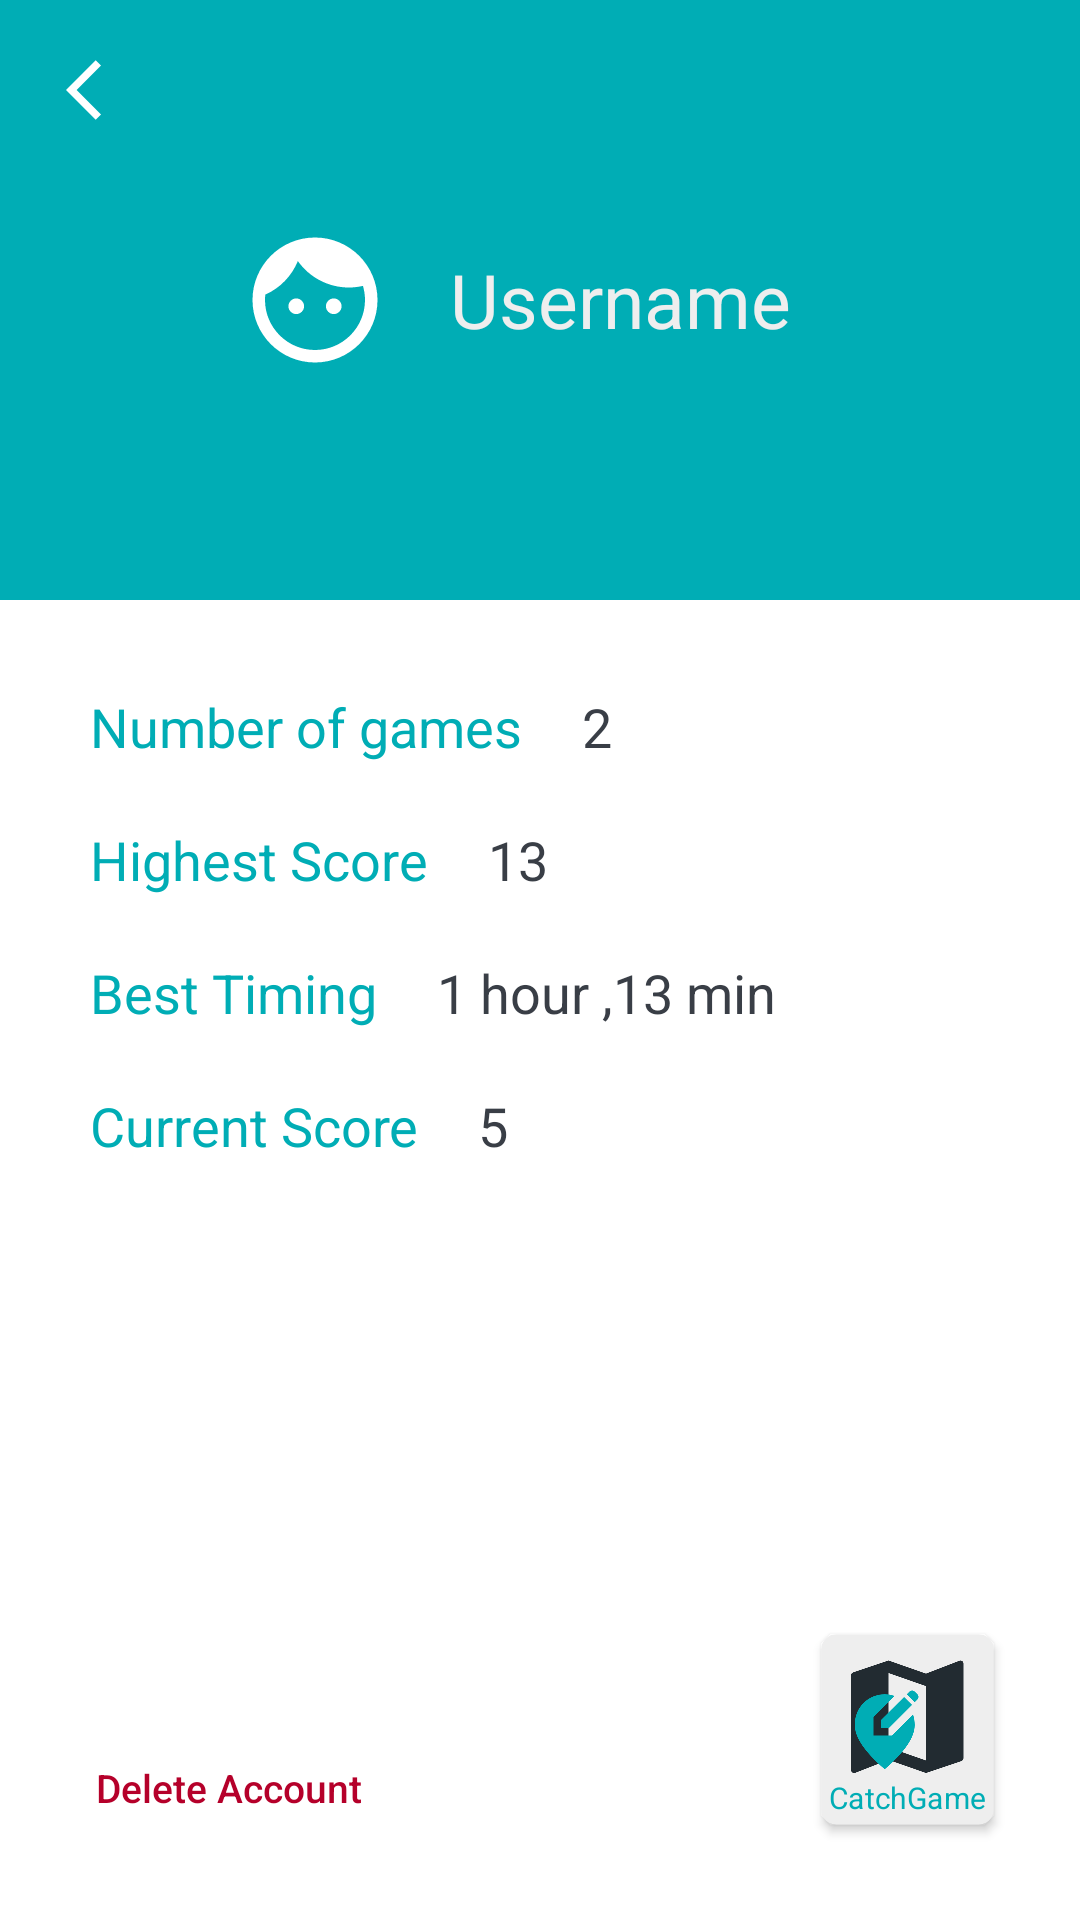

Icons on this 1080×1920 Android screen, each with its box as (x1, y1, x2, y2):
face: (252, 237, 378, 363)
